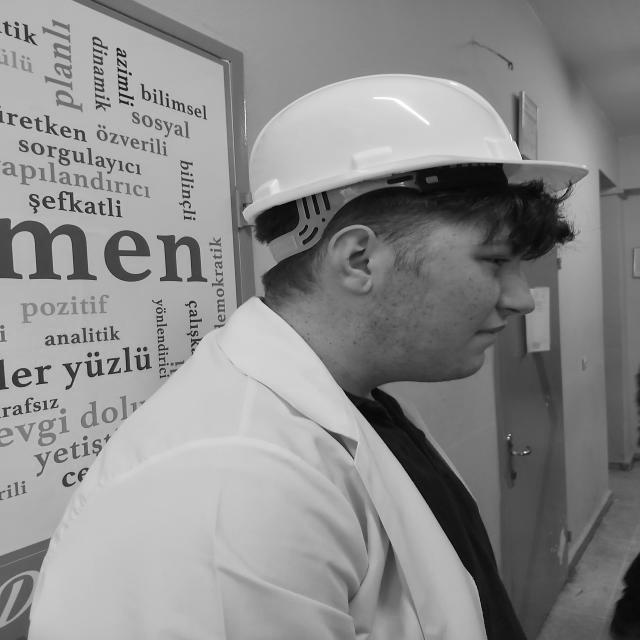construction helmet: (244, 80, 566, 257)
